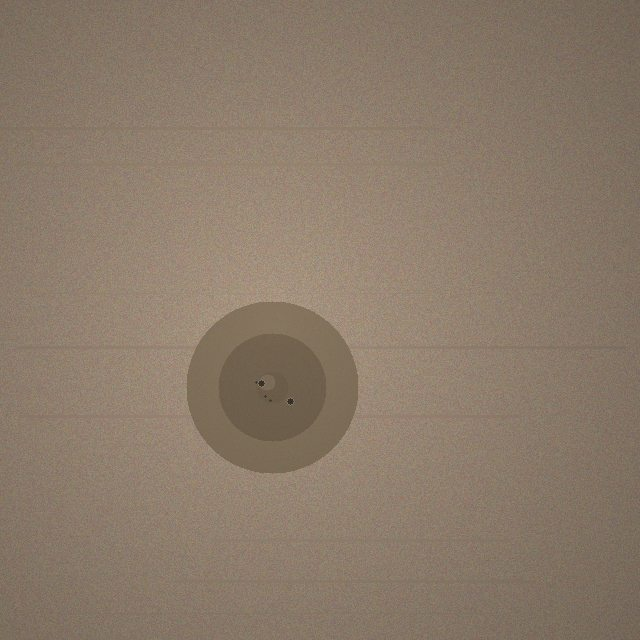shrinkage: (186, 301, 358, 473)
